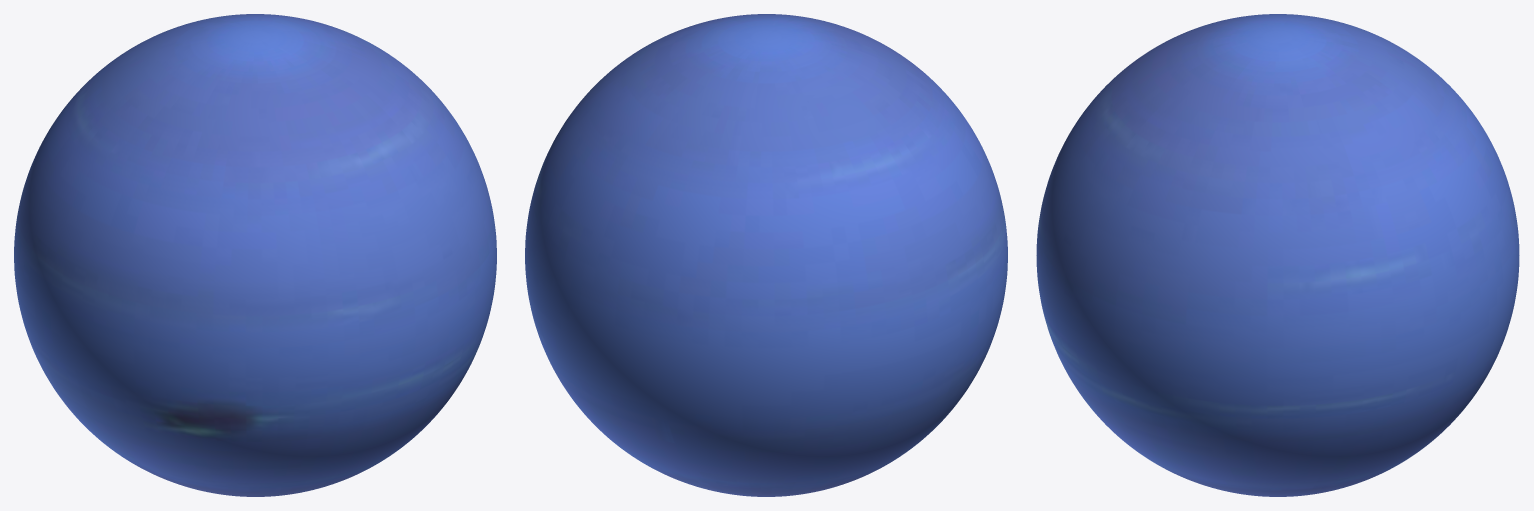
File: Neptune.obj
3 views of the same model, side by side, from view 1: azimuth 30°, elevation 25°; view 2: azimuth 150°, elevation 25°; view 3: azimuth 270°, elevation 25° (orthographic).
Visible parts, largest first — view 1: Moon_Sphere.001; view 2: Moon_Sphere.001; view 3: Moon_Sphere.001.
Boxes of the visible parts, x1,y1,x2,y2 form: Moon_Sphere.001: [14, 14, 496, 496]; Moon_Sphere.001: [525, 14, 1007, 496]; Moon_Sphere.001: [1036, 14, 1519, 496].
Bounding box in the file's own units: 2 × 2 × 2.
1 material, 1 textured.
